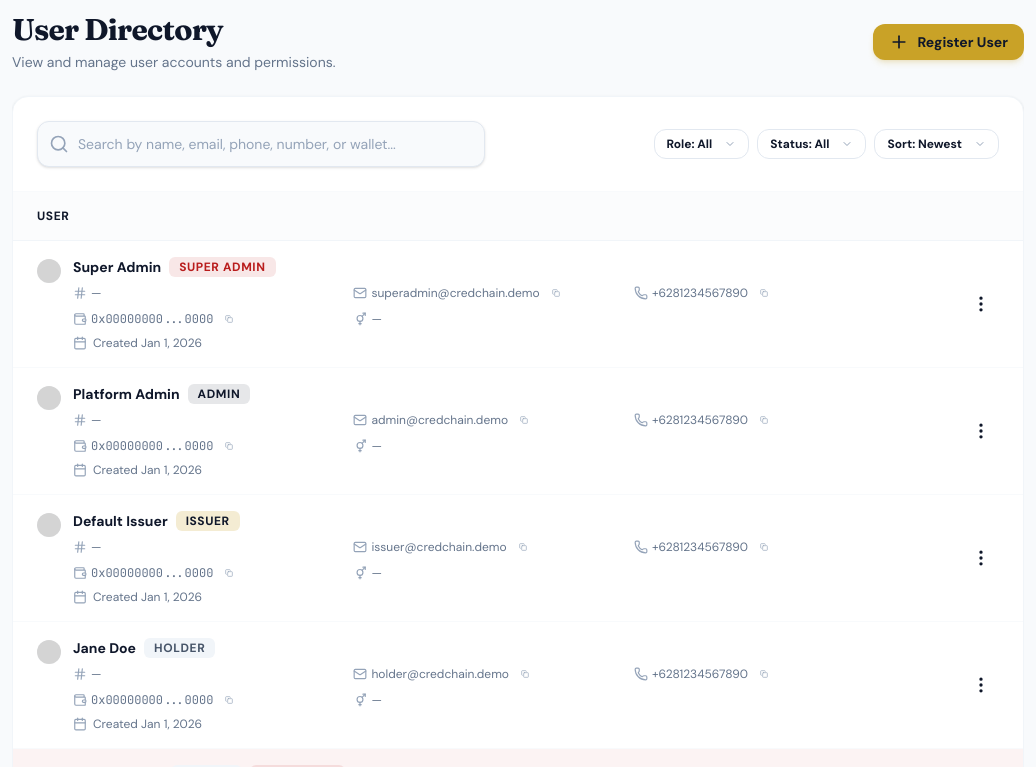
UserList › hides transfer super admin option on own row (self)
Check: the link "Super Admin" is shown, box left=73, top=257, right=161, bottom=277
Click the button named "Actions" in the row of "superadmin@credchain.demo" at coordinates (981, 304), box left=963, top=286, right=999, bottom=322
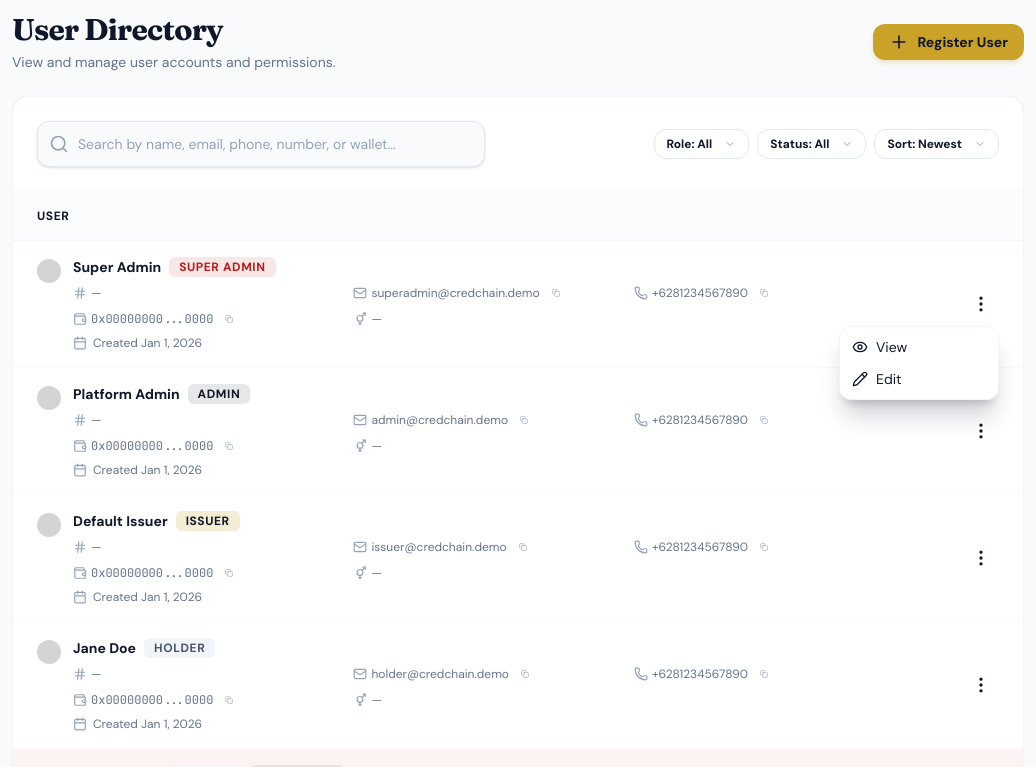
Check: the menu item "Edit" is shown, box left=852, top=370, right=902, bottom=388
